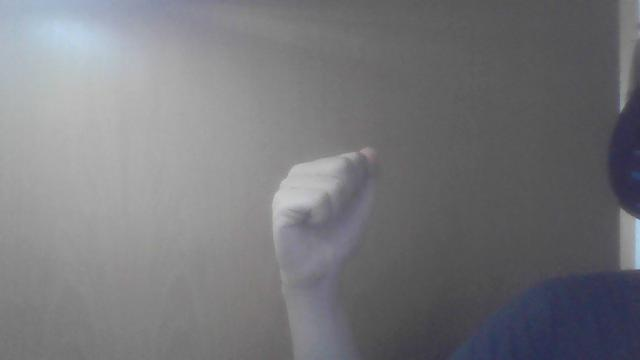forward: (272, 151, 386, 278)
